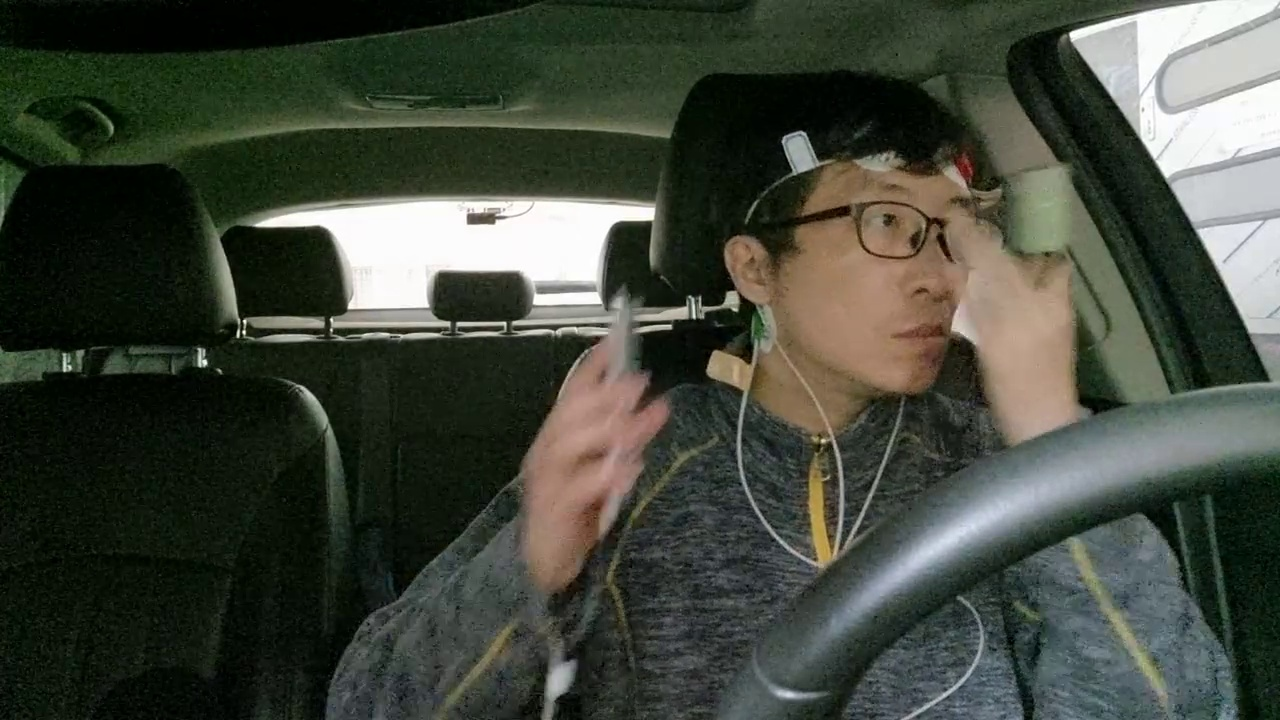phone: (541, 278, 697, 502)
